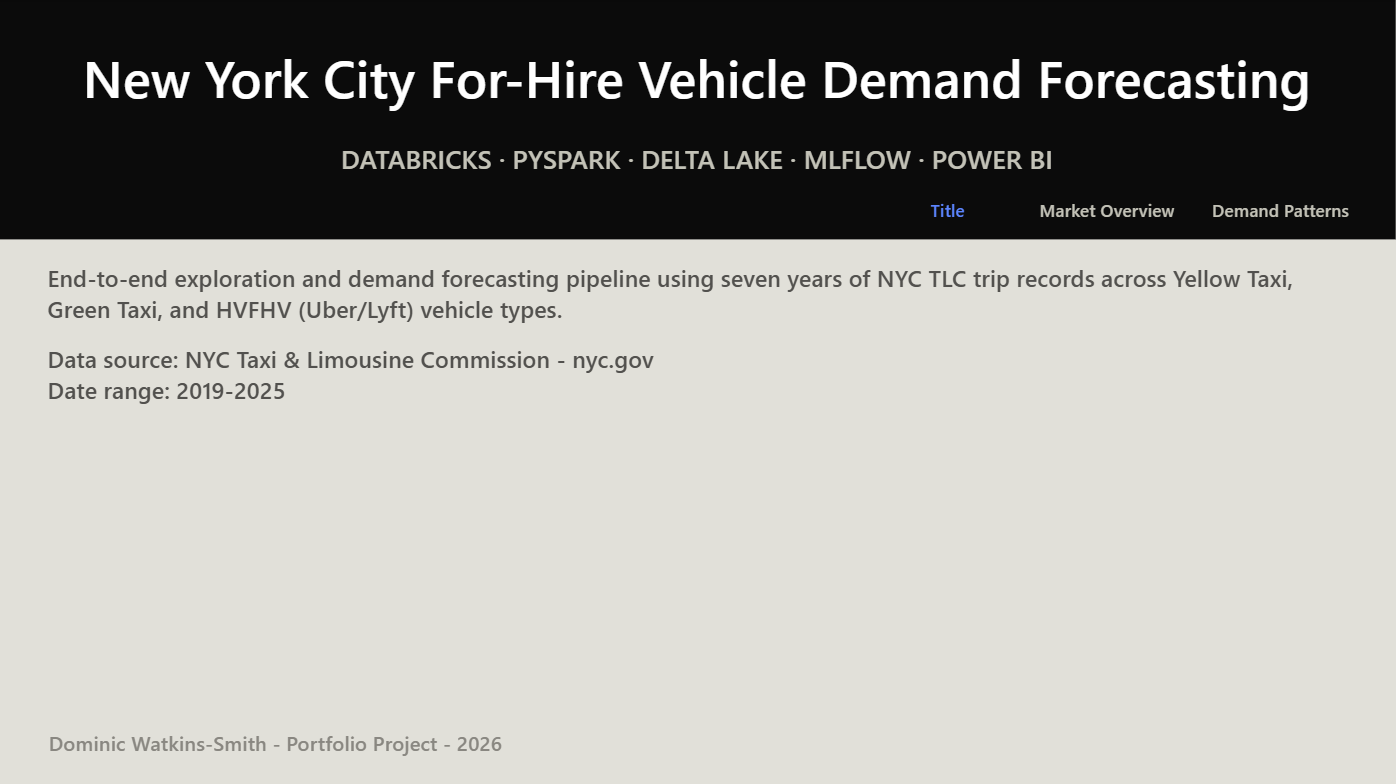

This screenshot's page, from the dashboard's own definition file:
{"tool":"powerbi","page":{"name":"Title","canvas":[1280,720],"ordinal":0},"visuals":[{"type":"shape","box":[0,0,1279.4,220],"z":0},{"type":"textbox","box":[0,125.2,1279.5,47.2],"z":1000},{"type":"textbox","box":[0,34,1279.5,91.2],"z":2000},{"type":"textbox","box":[25.3,235,1224.5,190],"z":3000},{"type":"textbox","box":[26,663,1224.5,36.4],"z":4000},{"type":"pageNavigator","box":[795.1,172.4,465.7,40.6],"z":5000}]}

Visuals, with their boxes in screenshot pixels (x1, y1, x2, y2), scaled from the page's 1280x720 canvas onto the 1396x784 screenshot:
shape: <box>0,0,1395,240</box>
textbox: <box>0,136,1395,188</box>
textbox: <box>0,37,1395,136</box>
textbox: <box>28,256,1363,463</box>
textbox: <box>28,722,1364,762</box>
pageNavigator: <box>867,188,1375,232</box>
